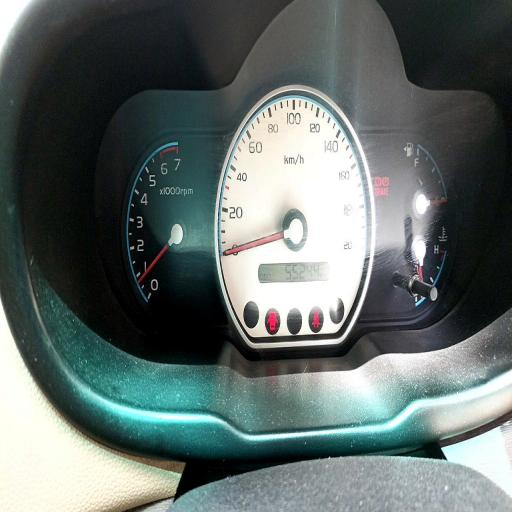belt: (312, 309, 320, 329)
brake_system_fault: (375, 176, 382, 186)
tachometer: (122, 132, 216, 307)
